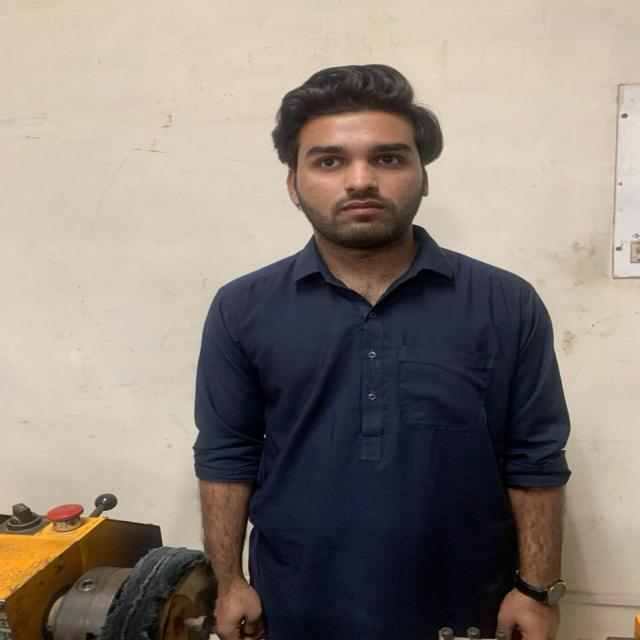dress: (187, 220, 577, 640)
